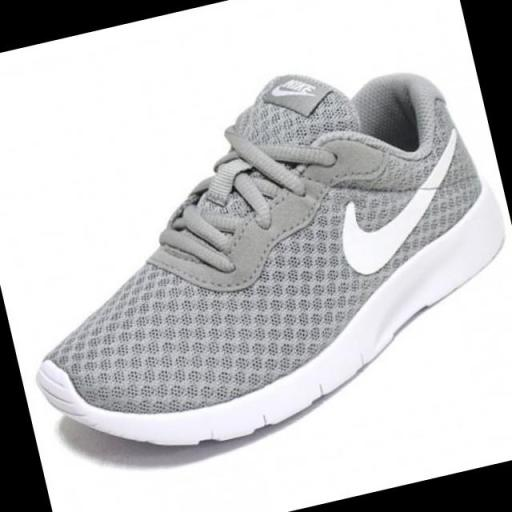Nike: (316, 124, 489, 283)
